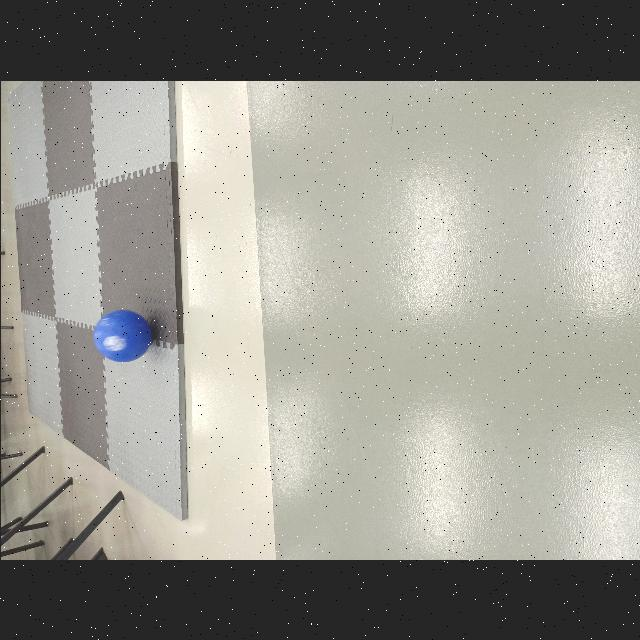B: (91, 310, 155, 364)
